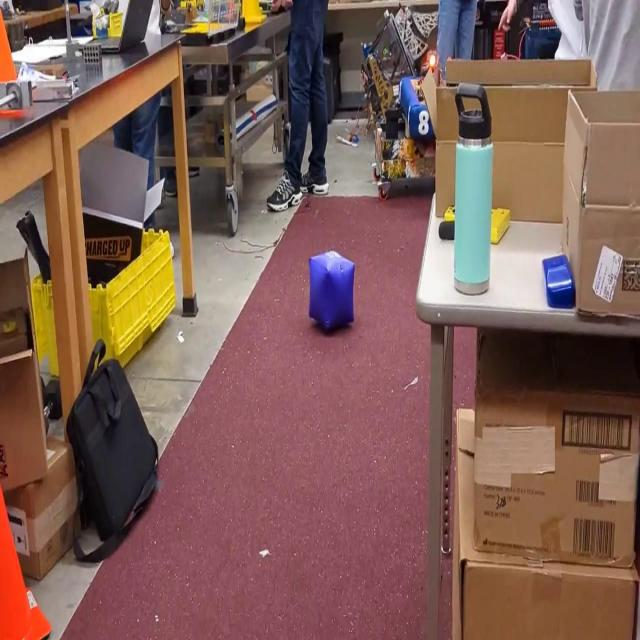frc_cone: (236, 0, 268, 24)
frc_cube: (307, 249, 355, 334)
